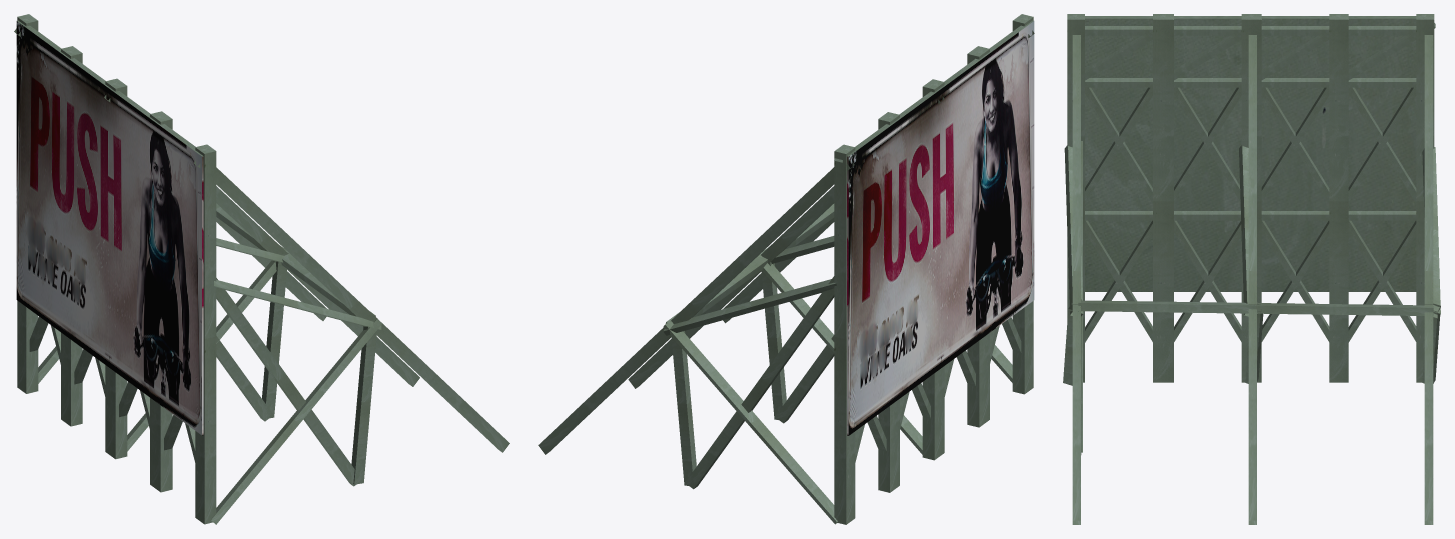
Rendered from billboard B.FBX.
3 renders of one model, left to right at view 1: azimuth 30°, elevation 25°; view 2: azimuth 150°, elevation 25°; view 3: azimuth 270°, elevation 25°, orthographic. The views are drawn at different scales.
Visible parts, largest first — view 1: Box026; view 2: Box026; view 3: Box026.
Boxes of the visible parts, <box> form: Box026: <box>14,14,509,524</box>; Box026: <box>538,14,1034,524</box>; Box026: <box>1063,14,1440,524</box>.
Size of the model in its own units: 42.05 by 48.22 by 45.
